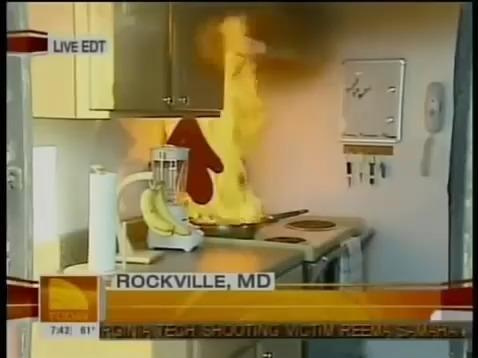fire: (188, 89, 266, 230)
